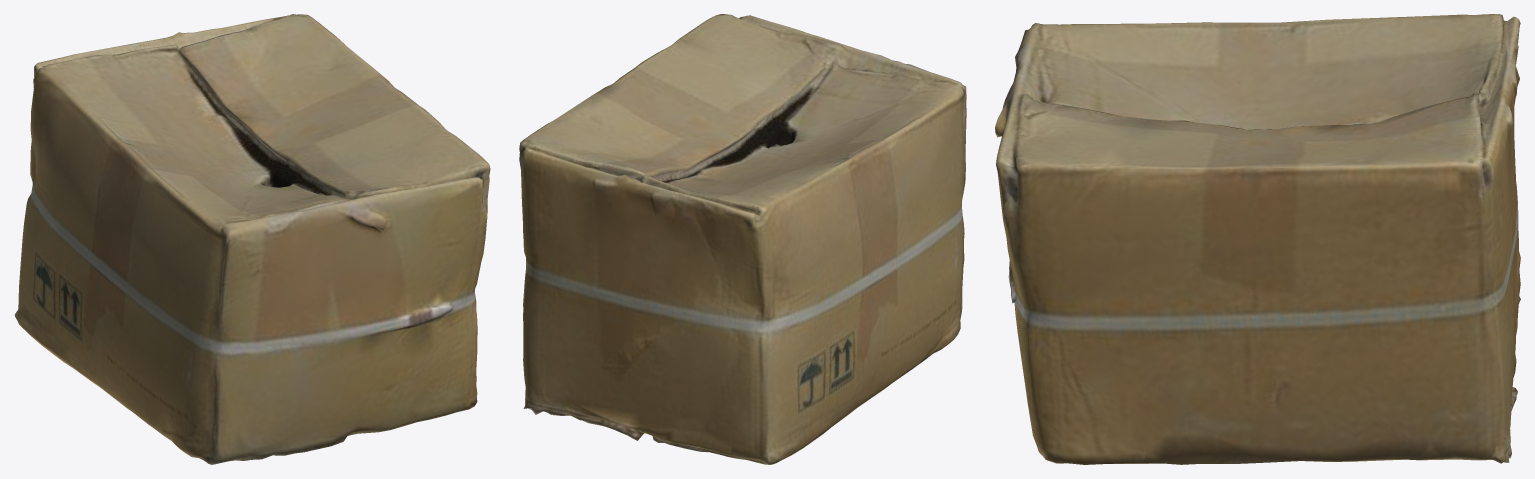
File: cardboard_box_01.glb
3 views of the same model, side by side, from view 1: azimuth 30°, elevation 25°; view 2: azimuth 150°, elevation 25°; view 3: azimuth 270°, elevation 25° (orthographic). The views are drawn at different scales.
Parts seen in each view (by area): view 1: cardboard_box_01; view 2: cardboard_box_01; view 3: cardboard_box_01.
Part boxes in pixels (bbox=[...]): cardboard_box_01: bbox=[14, 14, 490, 464]; cardboard_box_01: bbox=[519, 14, 966, 464]; cardboard_box_01: bbox=[995, 14, 1520, 464].
Size of the model in its own units: 0.3869 by 0.3418 by 0.5159.
Materials: 1 (1 with a texture image).
